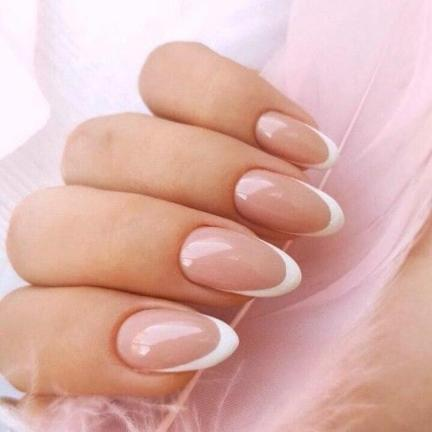Nail: (179, 225, 302, 297), (116, 309, 240, 373), (234, 169, 346, 237), (255, 111, 340, 170)
